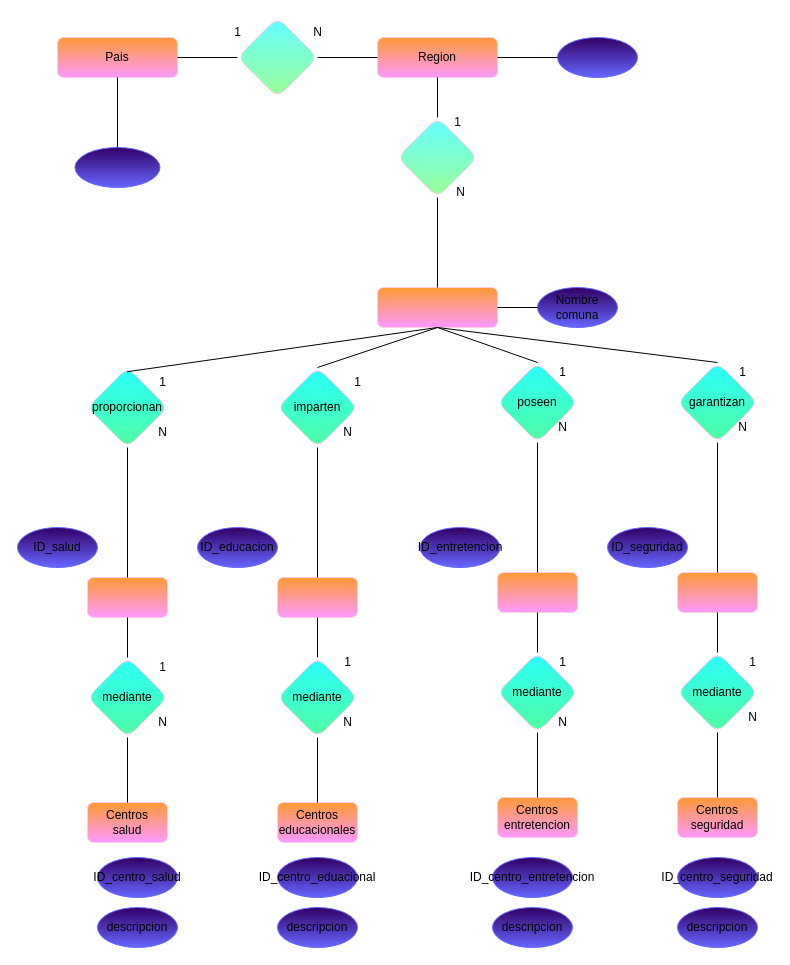
The diagram is 790 pixels wide and 965 high, and some of its shapes have lost their labels. The centre of each missing label's shape, as x and y in pixels:
"Comuna" goes at [437,307].
"Contiene" goes at [277,57].
"Educacion" goes at [317,597].
"Entretencion" goes at [537,592].
"Nombre region" goes at [597,57].
"Nombre_pais" goes at [117,167].
"Salud" goes at [127,597].
"Se_divide" goes at [437,157].
"Seguridad" goes at [717,592].
